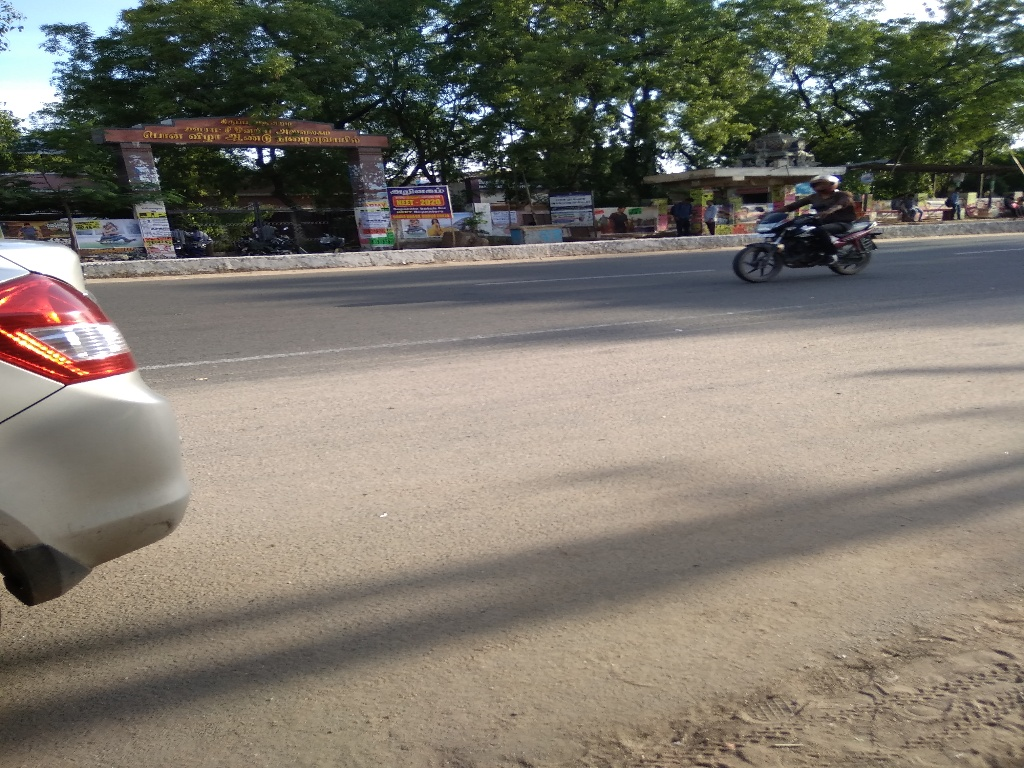biker: (722, 149, 896, 297)
helmet: (805, 168, 846, 205)
